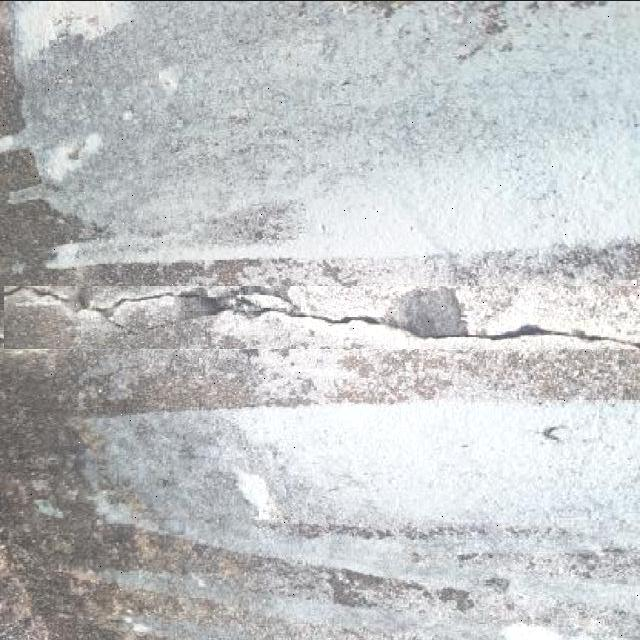crack: (11, 239, 637, 307), (51, 282, 313, 328), (31, 254, 315, 292)
